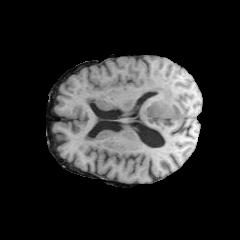glioma: (131, 69, 180, 125)
